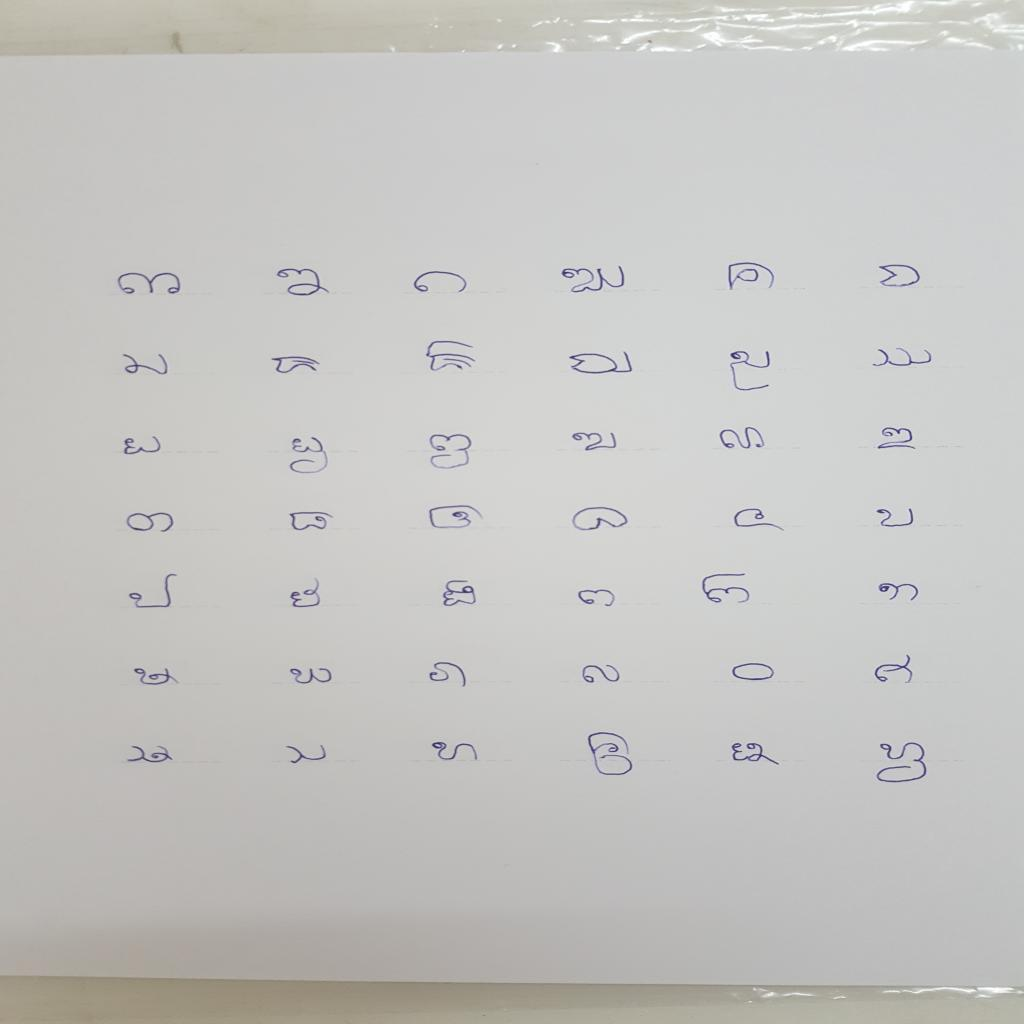LN001: (113, 271, 188, 300)
LN002: (271, 266, 337, 300)
LN003: (409, 269, 475, 297)
LN006: (875, 262, 927, 291)
LN007: (118, 351, 175, 379)
LN010: (564, 347, 641, 378)
LN011: (724, 348, 778, 396)
LN012: (868, 345, 939, 371)
LN013: (119, 434, 167, 460)
LN014: (285, 435, 335, 478)
LN015: (424, 433, 476, 473)
LN017: (715, 425, 773, 452)
LN018: (875, 425, 921, 454)
LN019: (123, 511, 180, 536)
LN020: (284, 509, 339, 535)
LN021: (424, 503, 489, 533)
LN022: (567, 505, 634, 535)
LN024: (872, 507, 920, 531)
LN025: (125, 571, 186, 613)
LN026: (287, 577, 327, 612)
LN028: (573, 587, 621, 611)
LN029: (698, 572, 757, 608)
LN030: (874, 581, 924, 605)
LN031: (129, 665, 184, 689)
LN032: (285, 666, 339, 687)
LN033: (425, 660, 472, 692)
LN034: (577, 663, 625, 687)
LN035: (726, 661, 780, 684)
LN036: (871, 654, 918, 688)
LN037: (123, 743, 181, 768)
LN039: (429, 740, 484, 765)
LN040: (582, 730, 638, 779)
LN041: (725, 740, 785, 769)
LN042: (872, 740, 932, 787)
